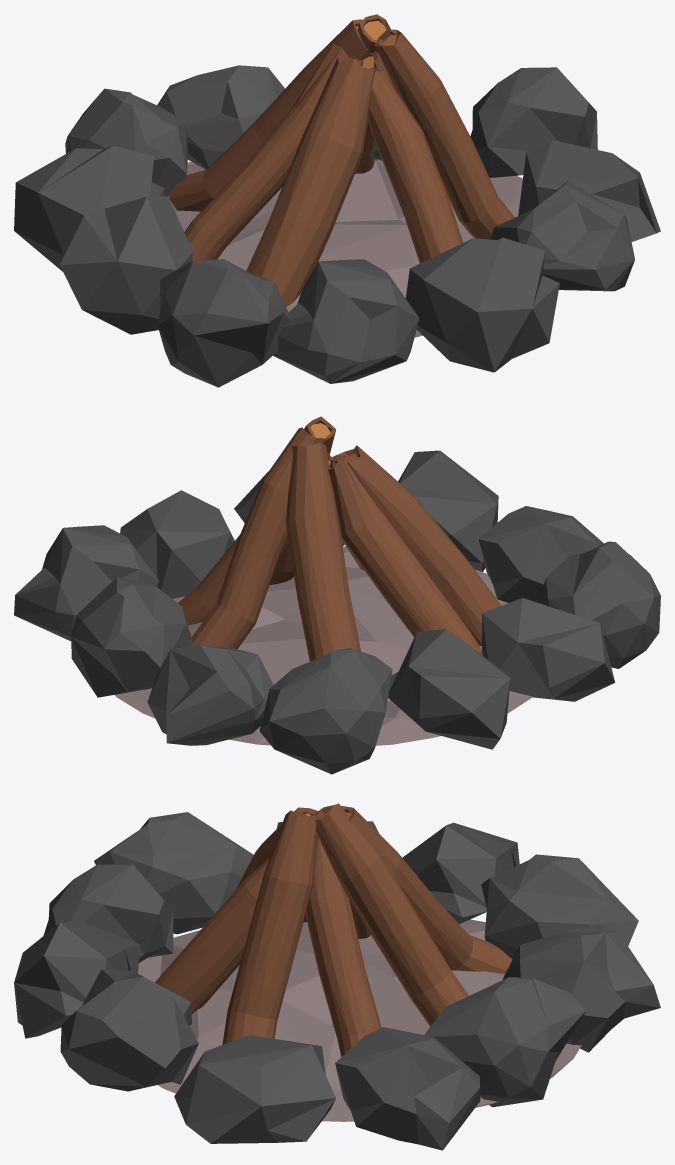
Rendered from Campfire1.glb.
The picture shows the model from 3 angles, top to bottom: view 1: azimuth 30°, elevation 25°; view 2: azimuth 150°, elevation 25°; view 3: azimuth 270°, elevation 25°; orthographic projection. The views are drawn at different scales.
Visible parts, largest first — view 1: Campfire; view 2: Campfire; view 3: Campfire.
Boxes of the visible parts, bbox=[...] form: Campfire: bbox=[14, 14, 660, 387]; Campfire: bbox=[14, 416, 660, 774]; Campfire: bbox=[14, 803, 660, 1150].
Size of the model in its own units: 15.21 by 6.35 by 14.84.
